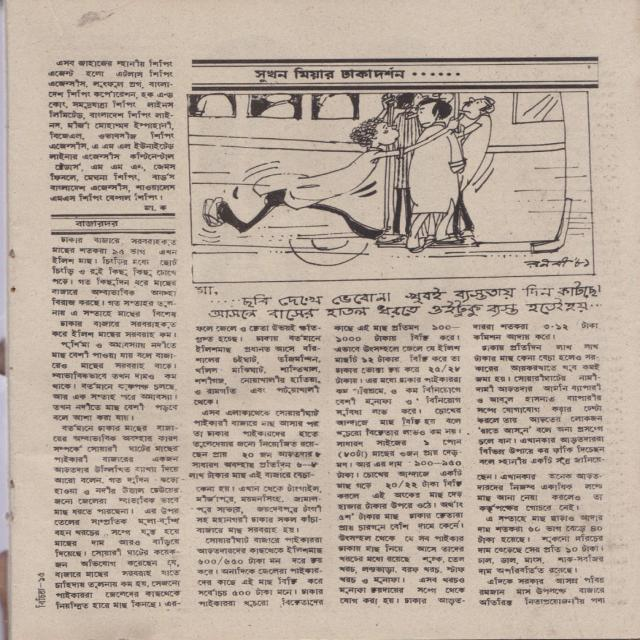image: (185, 90, 598, 287)
page number: (36, 571, 46, 583)
paragraph: (332, 322, 468, 607), (51, 423, 183, 612), (472, 341, 608, 515), (46, 58, 177, 203), (186, 407, 324, 535), (191, 323, 325, 407), (49, 339, 179, 424), (50, 236, 179, 318), (196, 535, 325, 608), (476, 513, 607, 577), (477, 574, 608, 607), (471, 319, 600, 342), (49, 319, 181, 339)
text: (189, 277, 606, 318), (34, 582, 47, 609), (143, 204, 168, 211)
title: (252, 66, 463, 83), (74, 220, 120, 228)
